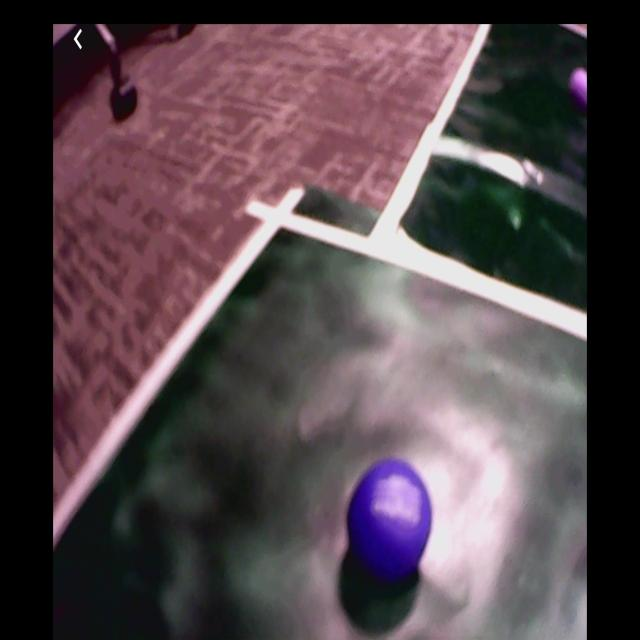ball: (348, 460, 432, 576), (572, 66, 588, 103)
